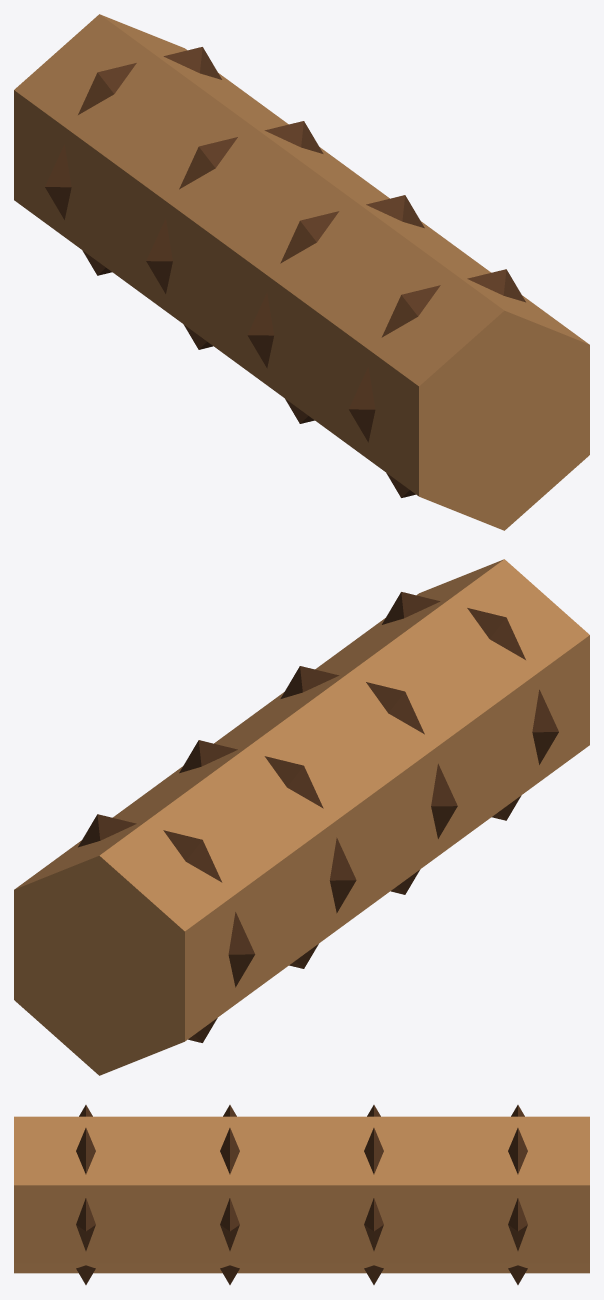
The model's file is ZiplineRope.fbx.
3 renders of one model, top to bottom at view 1: azimuth 30°, elevation 25°; view 2: azimuth 150°, elevation 25°; view 3: azimuth 270°, elevation 25°, orthographic. The views are drawn at different scales.
Parts seen in each view (by area): view 1: ZiplineRope; view 2: ZiplineRope; view 3: ZiplineRope.
Part boxes in pixels (x1=…): ZiplineRope: x1=14, y1=14, x2=589, y2=530; ZiplineRope: x1=14, y1=559, x2=589, y2=1075; ZiplineRope: x1=14, y1=1105, x2=589, y2=1284.
Size of the model in its own units: 0.3 by 0.3 by 1.
